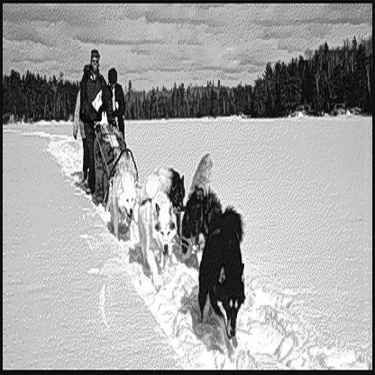dog: (190, 204, 251, 356), (130, 169, 180, 293), (180, 182, 226, 263), (99, 167, 137, 242), (166, 164, 185, 238), (191, 147, 215, 200)
